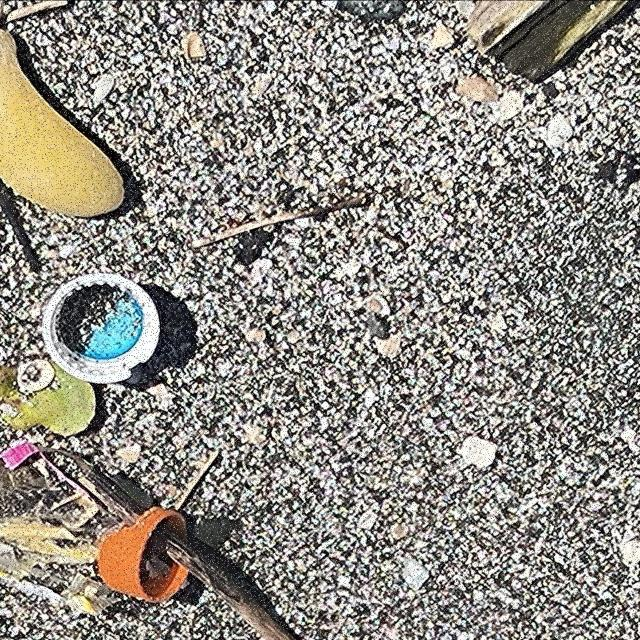plastic_waste: (41, 272, 163, 386), (98, 506, 197, 604)
